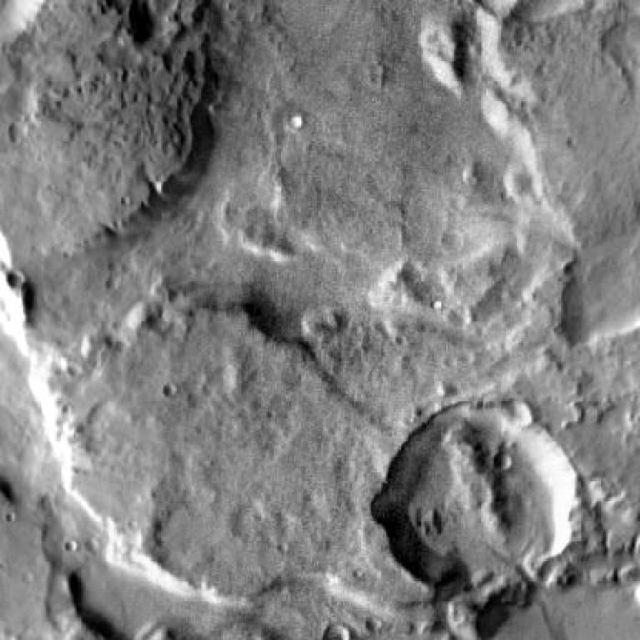crater: (378, 399, 576, 598), (325, 621, 356, 640), (448, 230, 469, 252), (496, 448, 515, 467), (367, 616, 384, 632), (286, 116, 302, 132), (0, 255, 9, 270)
